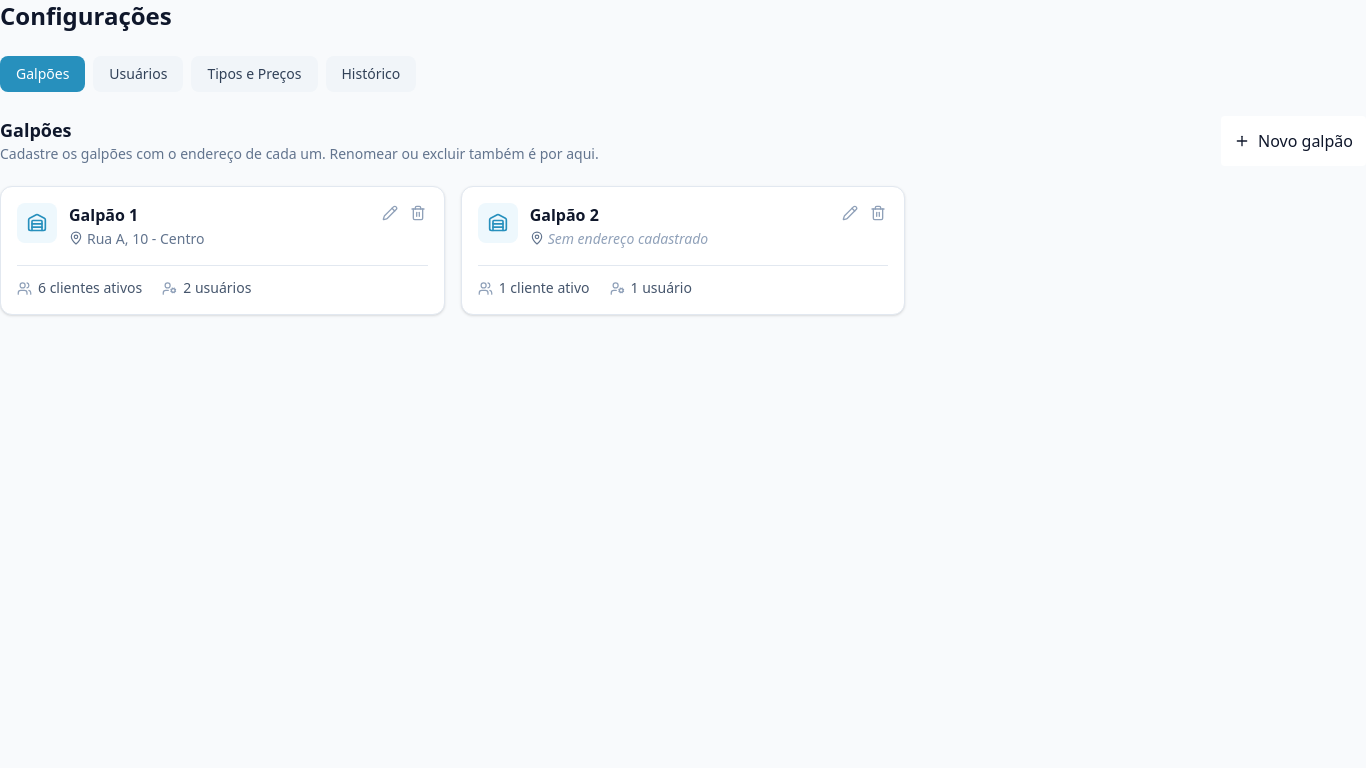
Configurações: Galpões › criar e editar › erro ao editar mostra o aviso
Expected: the heading "Configurações" is shown, [0,0,172,32]
Expected: the heading "Galpão 1" is shown, [69,204,138,226]
Click the button named "Editar galpão" in the row of "Galpão 1". click: (390, 213)
box: [376,199,404,227]
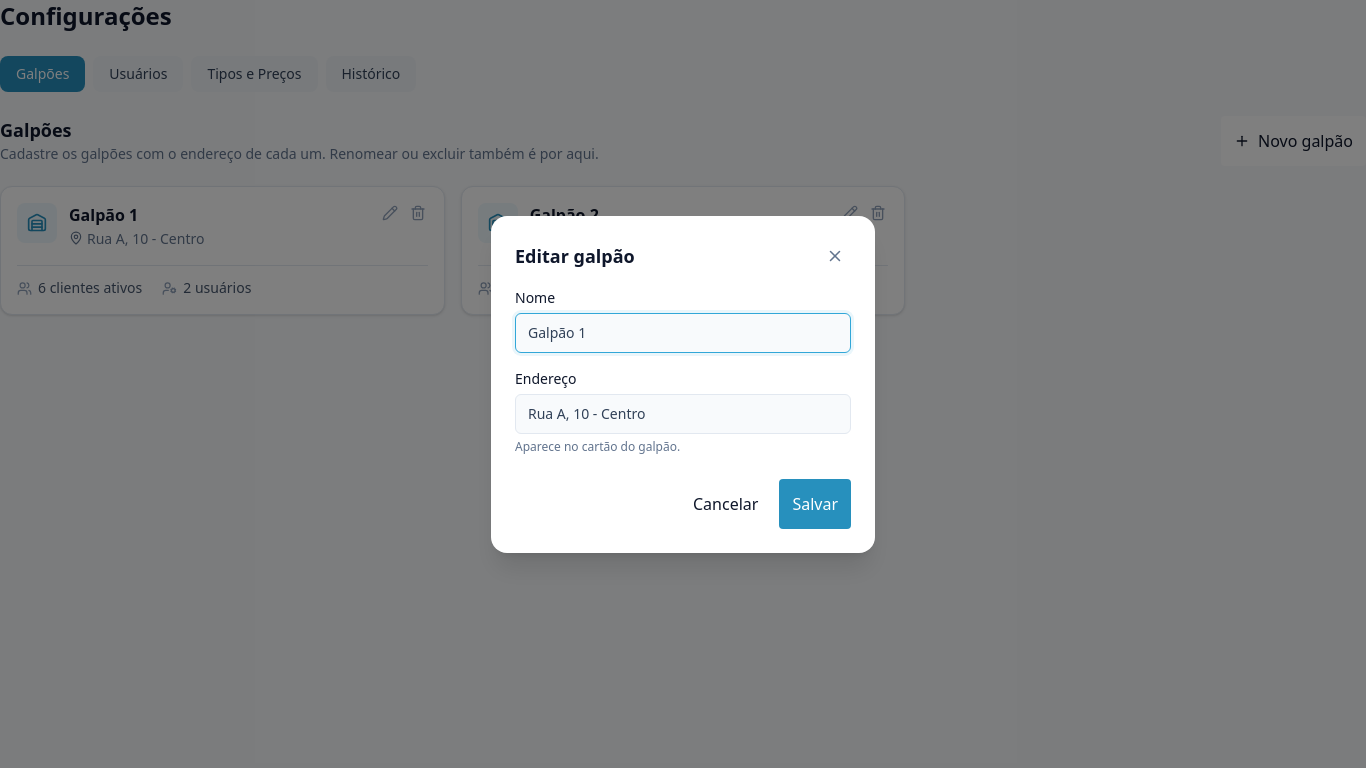
Click the button "Salvar". click: (815, 504)
box: [779,478,851,528]
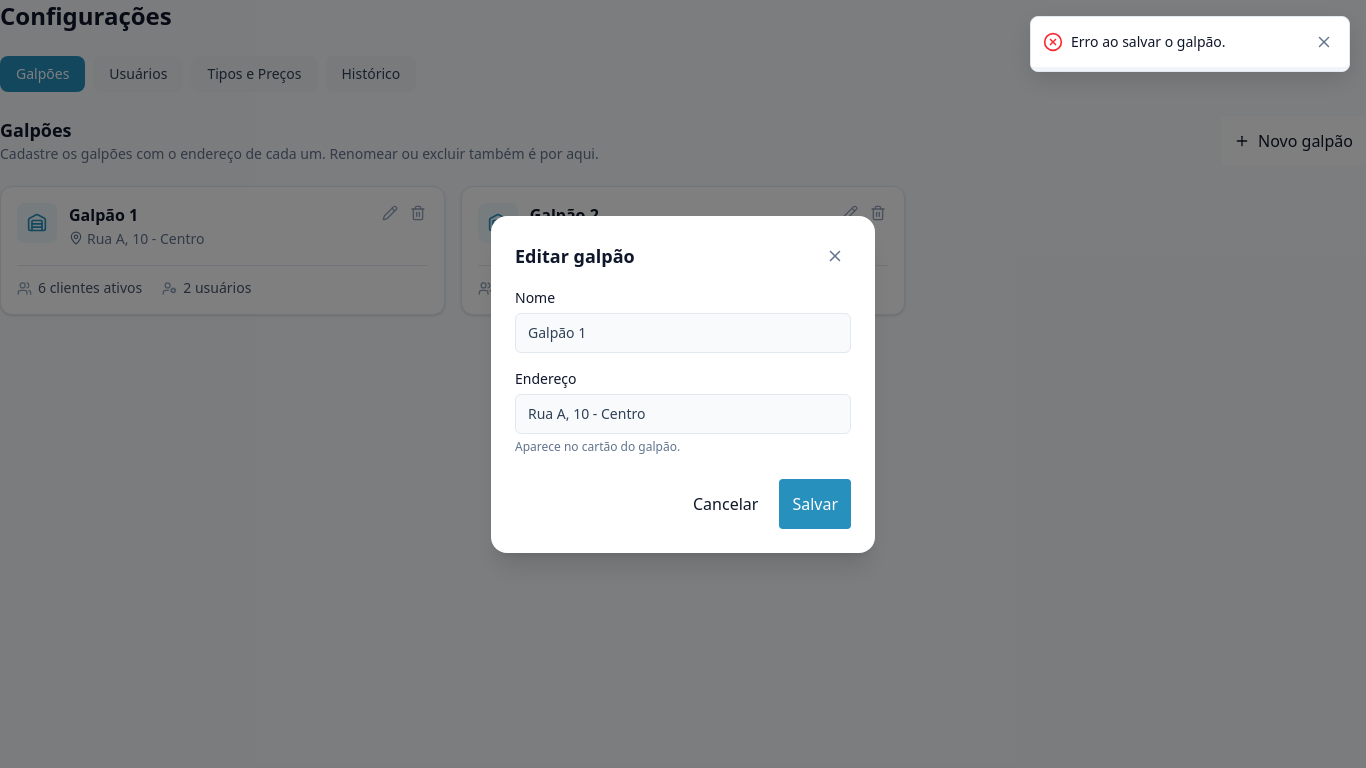
Expected: the text "Erro ao salvar o galpão." is shown, [1071,32,1226,51]
